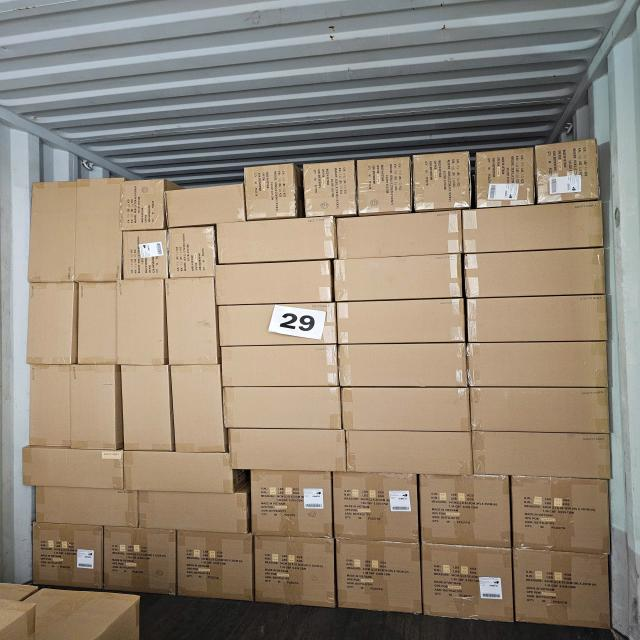Carton: (514, 548, 612, 630), (511, 475, 612, 554), (419, 540, 513, 621), (462, 204, 608, 253), (421, 474, 515, 548), (470, 340, 614, 388), (466, 250, 610, 298), (474, 430, 615, 479), (469, 298, 613, 345), (472, 386, 616, 433), (332, 539, 420, 615), (332, 471, 420, 542), (339, 388, 469, 435), (336, 342, 468, 388), (342, 429, 471, 476), (254, 538, 338, 610), (332, 257, 462, 303), (333, 211, 462, 256), (334, 302, 465, 346), (251, 469, 334, 536), (174, 532, 253, 602), (226, 388, 346, 433), (221, 306, 341, 350), (219, 218, 337, 262), (103, 527, 177, 597), (224, 343, 340, 387), (30, 524, 104, 592), (217, 261, 334, 304), (229, 427, 344, 470), (75, 178, 120, 282), (175, 366, 228, 454), (32, 179, 78, 280), (122, 454, 231, 496), (142, 490, 250, 532), (168, 281, 220, 368), (122, 363, 172, 450), (23, 450, 124, 491), (119, 282, 167, 368), (535, 140, 600, 203), (35, 487, 136, 527), (72, 366, 120, 450), (27, 281, 74, 365), (473, 147, 534, 208), (413, 155, 472, 215), (169, 183, 246, 228), (32, 363, 72, 446), (76, 284, 115, 367), (355, 158, 410, 216), (304, 163, 357, 219), (246, 166, 300, 220), (169, 229, 217, 280), (123, 233, 167, 282), (124, 180, 165, 231)
